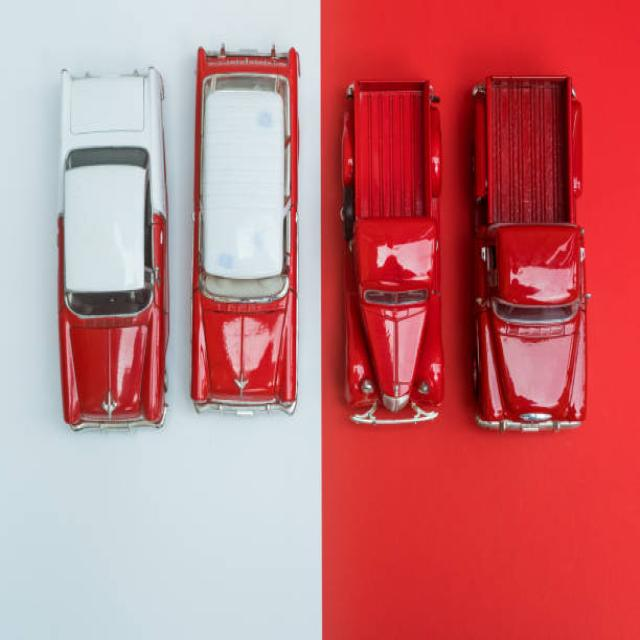Car: (474, 75, 588, 429), (58, 67, 168, 428), (191, 46, 298, 413), (341, 81, 442, 422)
